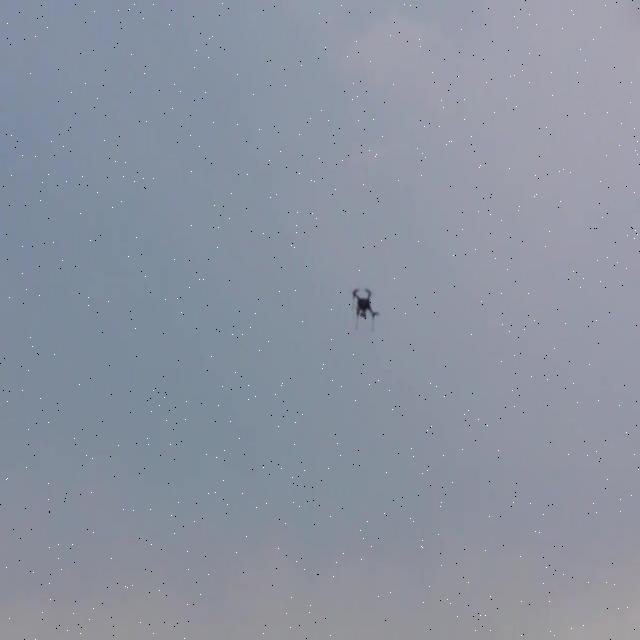UAV: (352, 288, 380, 332)
